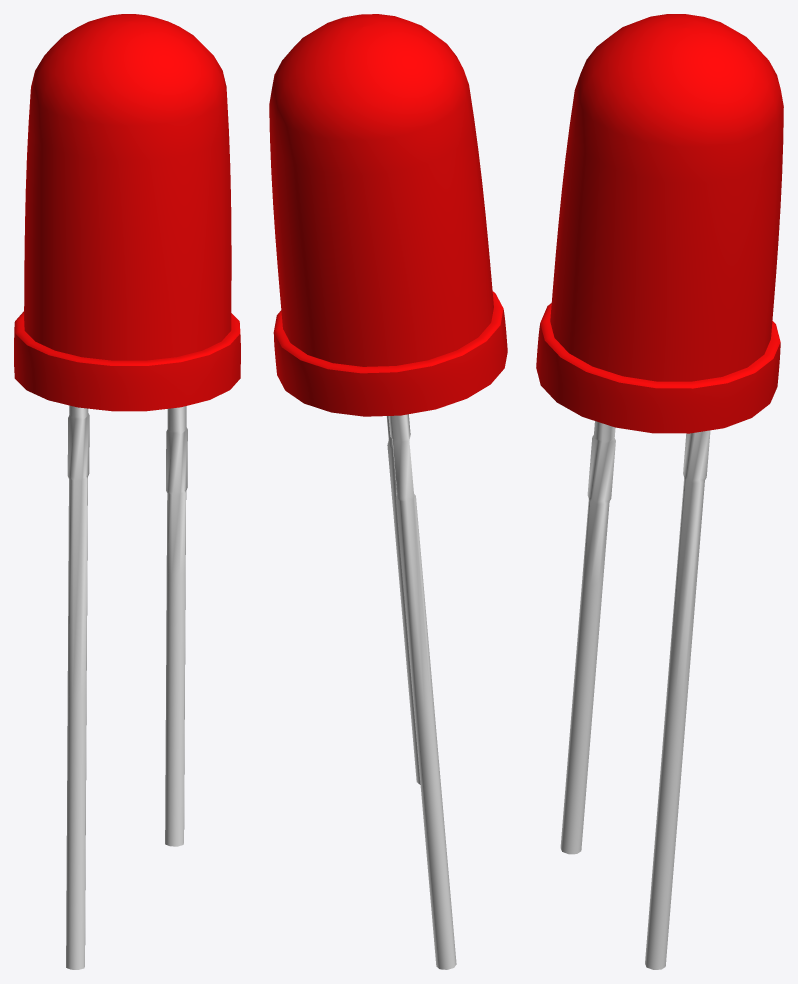
The model's file is LED.glb.
3 views of the same model, side by side, from view 1: azimuth 30°, elevation 25°; view 2: azimuth 150°, elevation 25°; view 3: azimuth 270°, elevation 25° (orthographic). The views are drawn at different scales.
Visible parts, largest first — view 1: lamp_korpys_0, katod_anod_anod_katod_0_022, katod_anod_anod_katod_0_011; view 2: lamp_korpys_0, katod_anod_anod_katod_0_022, katod_anod_anod_katod_0_011; view 3: lamp_korpys_0, katod_anod_anod_katod_0_022, katod_anod_anod_katod_0_011.
Part boxes in pixels (x1,y1,x2,y2): lamp_korpys_0: (14,14,240,411); katod_anod_anod_katod_0_022: (66,405,89,969); katod_anod_anod_katod_0_011: (165,406,187,846); lamp_korpys_0: (269,14,507,416); katod_anod_anod_katod_0_022: (388,414,456,969); katod_anod_anod_katod_0_011: (386,416,420,784); lamp_korpys_0: (536,14,783,433); katod_anod_anod_katod_0_022: (645,430,710,969); katod_anod_anod_katod_0_011: (560,421,615,854).
Size of the model in its own units: 5.52 by 24.32 by 5.61.
